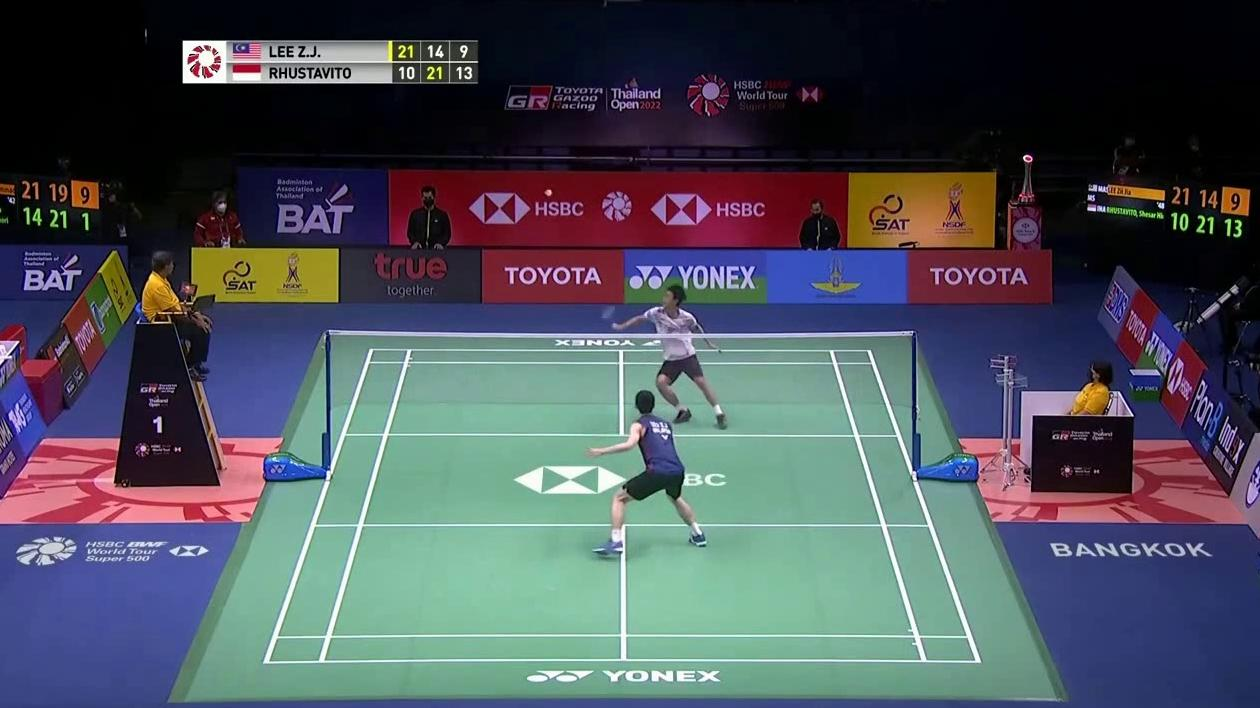racket: (598, 303, 619, 331)
shuttle: (544, 187, 554, 198)
